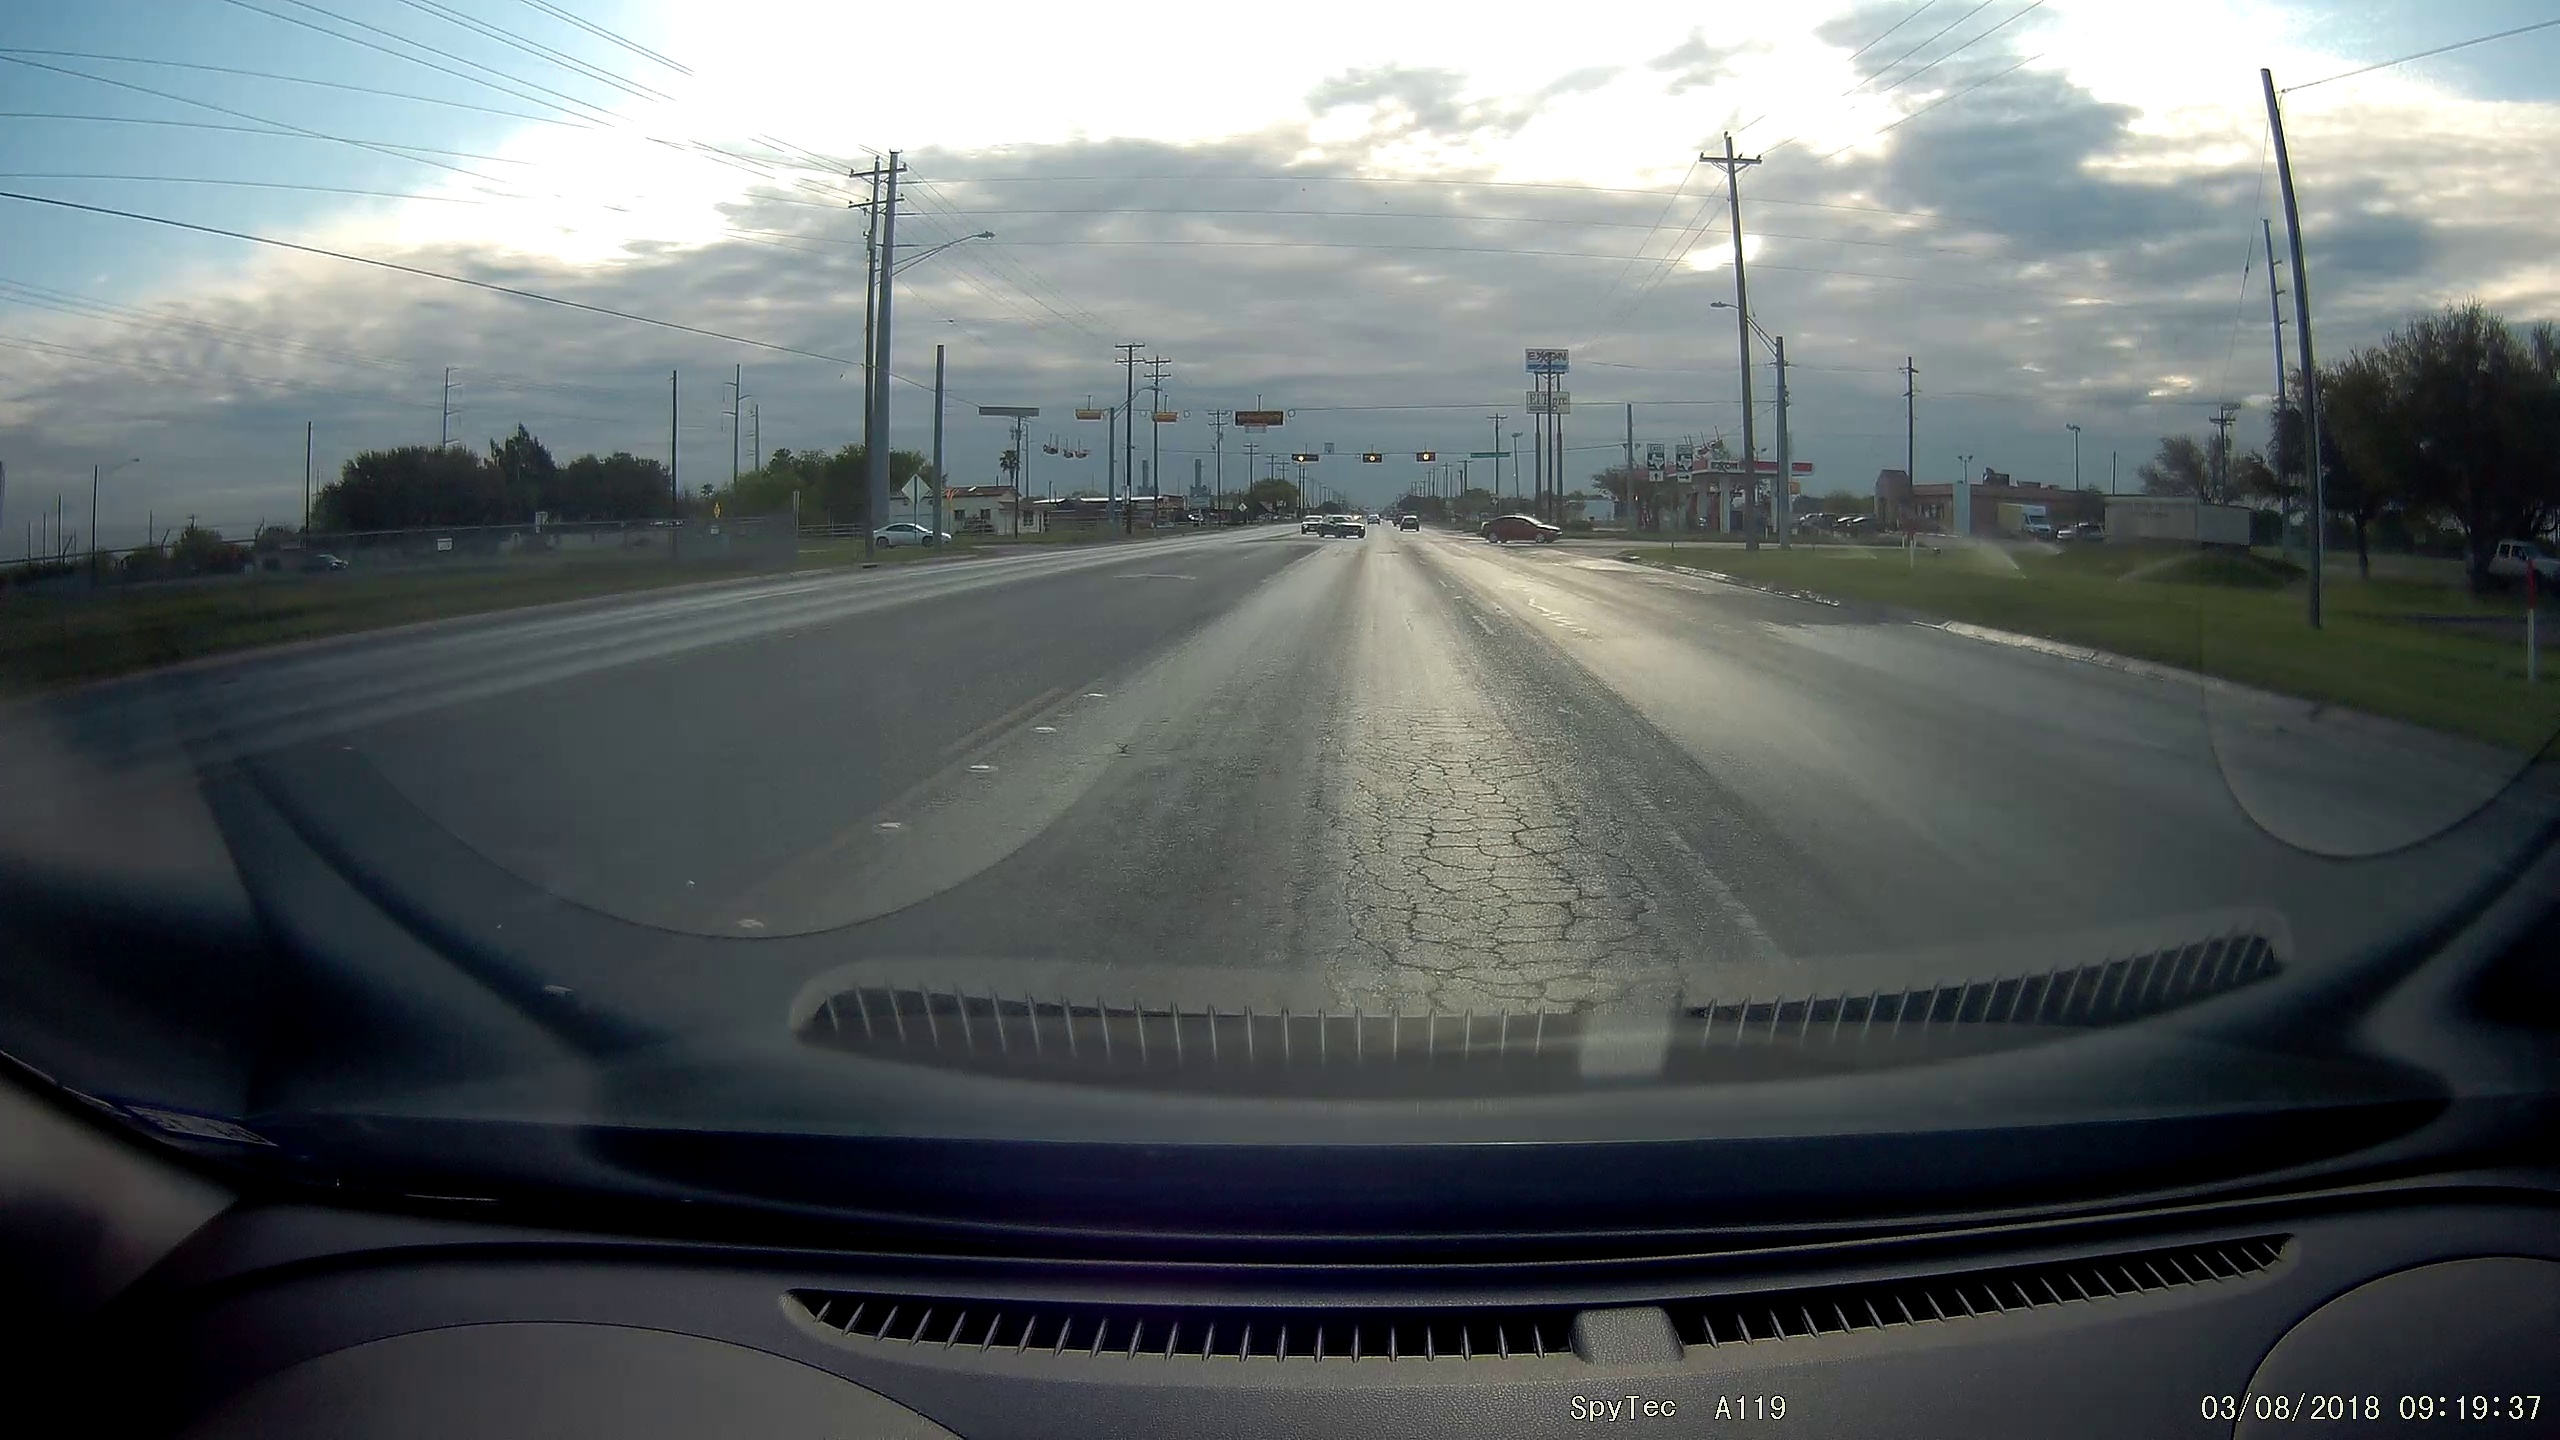alligatorCrack: (1361, 816, 1670, 956)
